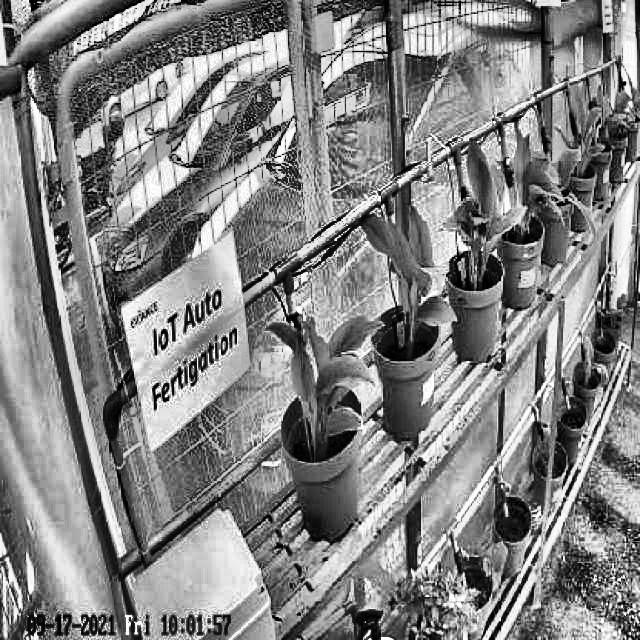plants: (264, 306, 382, 446), (360, 203, 457, 332), (444, 134, 524, 280), (512, 113, 563, 234), (558, 92, 604, 178)
